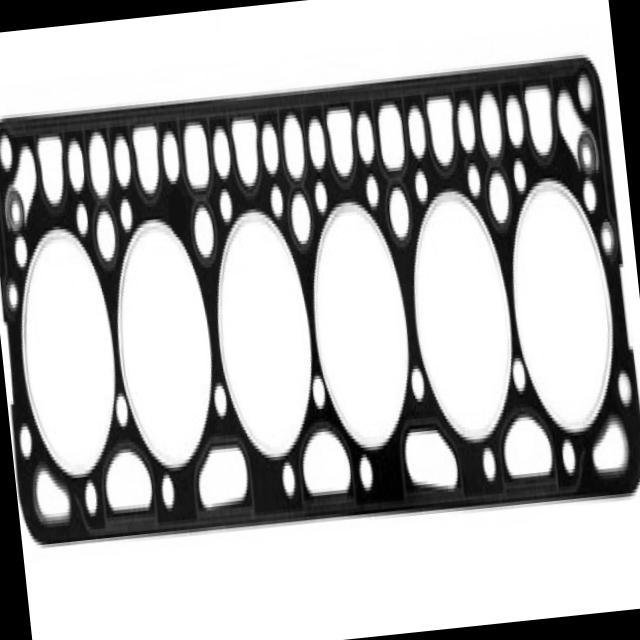missing hole: (158, 180, 200, 238)
